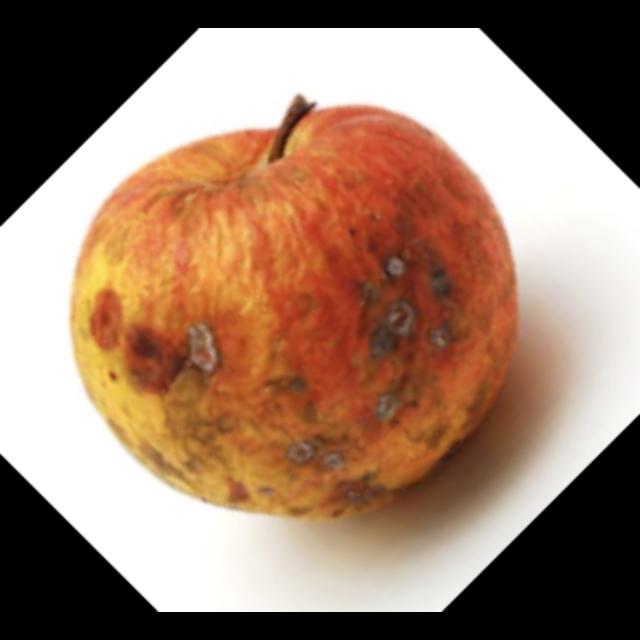Apel Tidak Segar: (69, 101, 533, 533)
